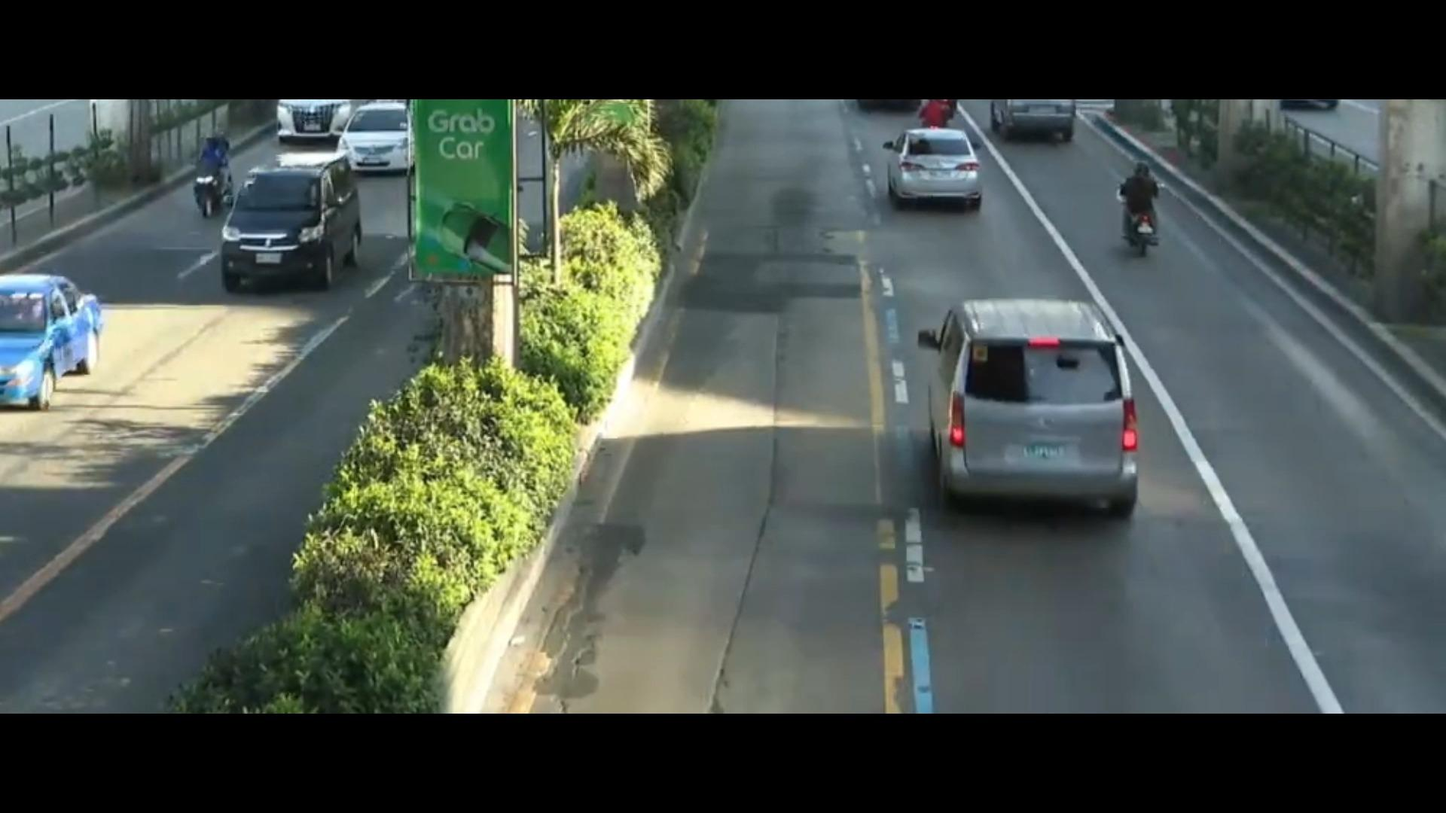Motorcycle: (1088, 140, 1187, 258), (170, 128, 228, 235)
Sedan: (0, 268, 128, 419), (858, 123, 995, 224), (334, 94, 418, 197)
Van: (914, 254, 1159, 539), (186, 142, 403, 304)
